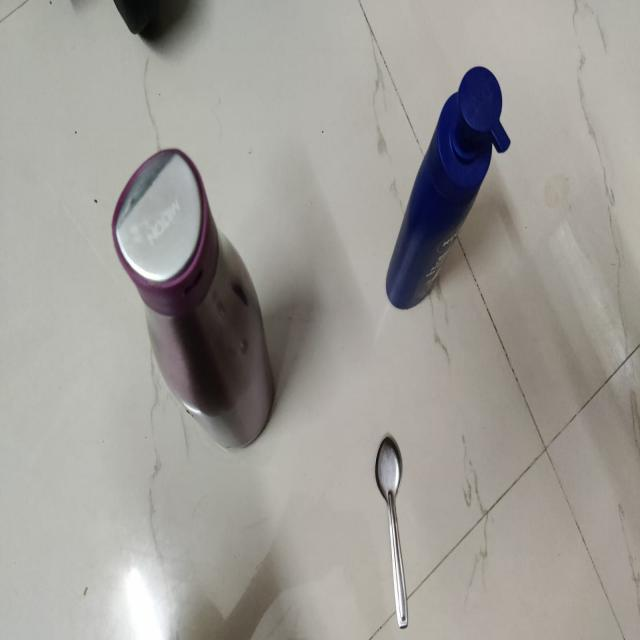metal: (89, 138, 300, 456), (360, 412, 420, 633)
plastic: (383, 40, 512, 320)
